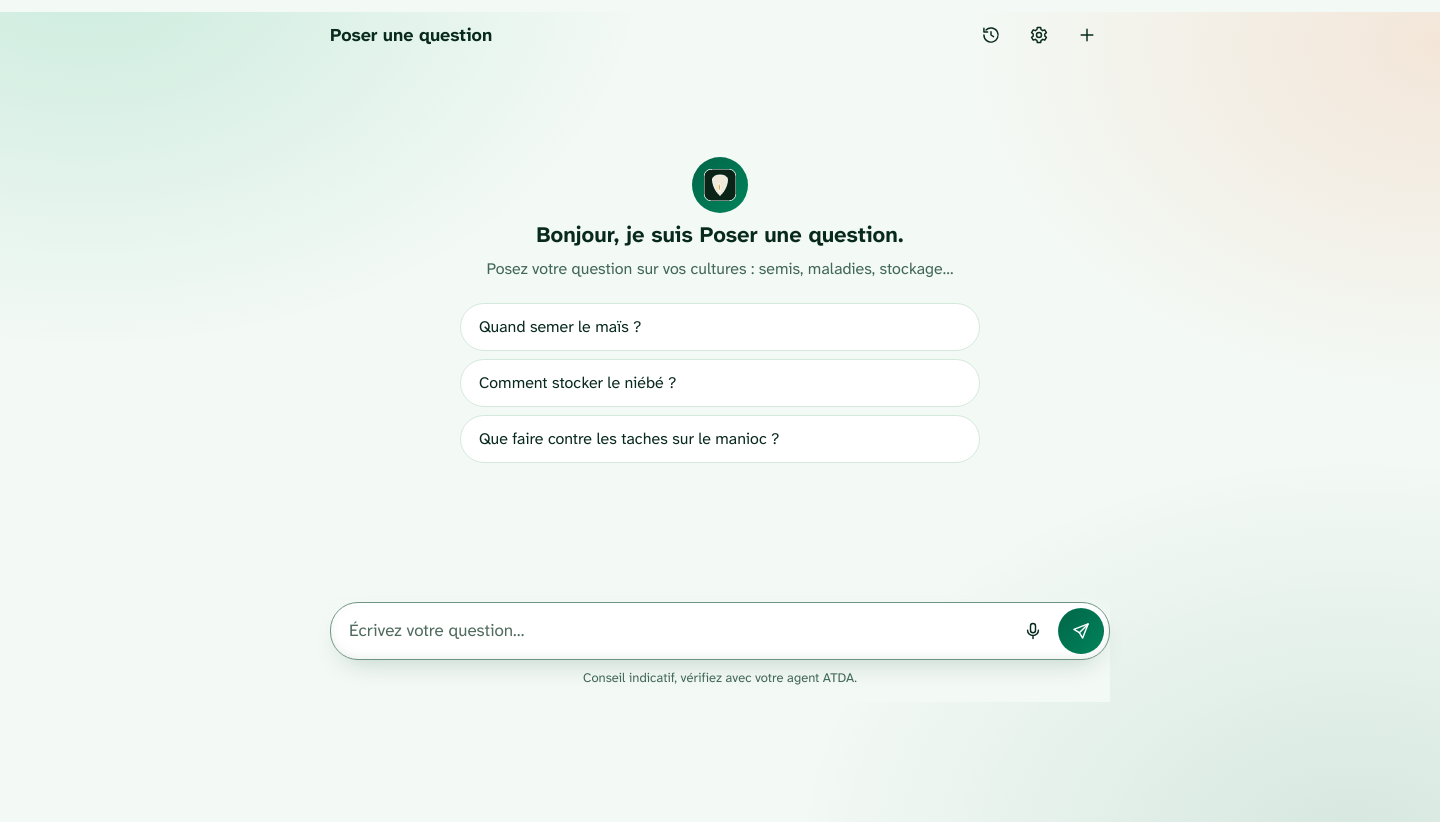
Assistant agricole › affiche la réponse en Markdown et range les sources dans un menu fermé
Type "Comment stocker le niébé ?" into the text box with placeholder "Écrivez votre question…".
click(678, 631); type("Comment stocker le niébé ?")  # box left=349, top=608, right=1008, bottom=654
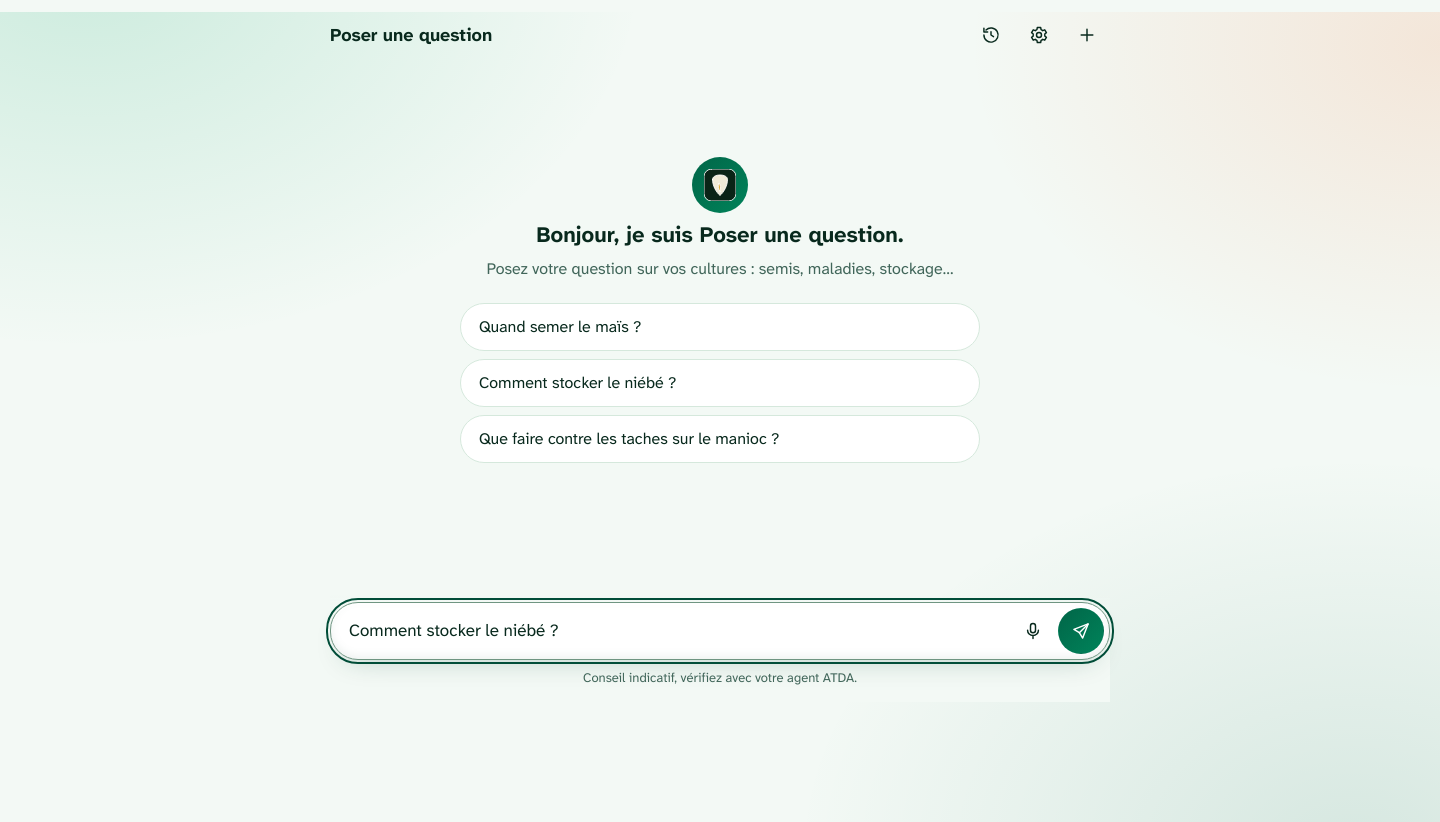
Click the button named "Envoyer".
click(1081, 631)  # box left=1058, top=608, right=1104, bottom=654
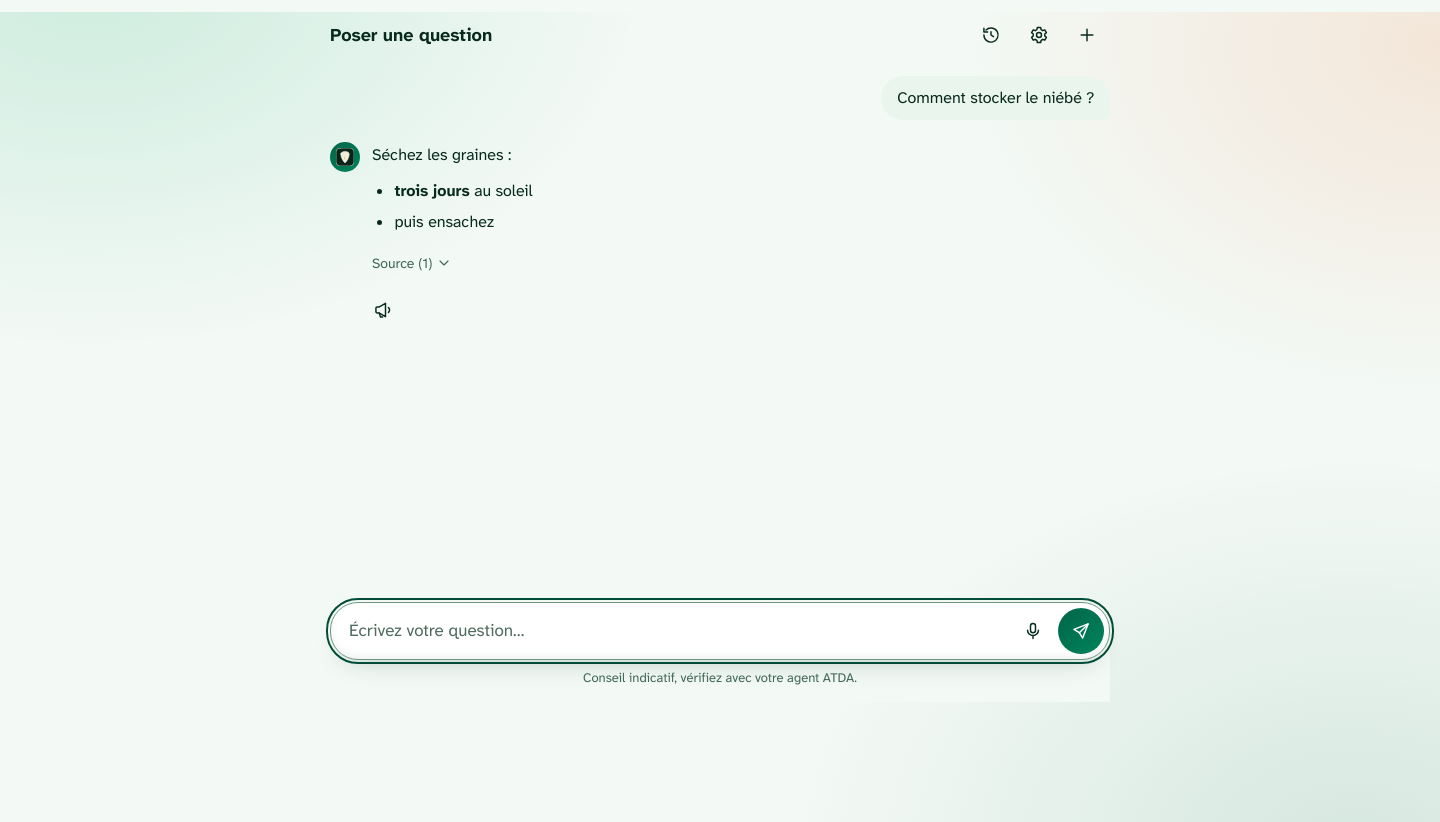
Now the number of list items is 2, box left=394, top=180, right=533, bottom=201; left=394, top=211, right=494, bottom=232
Click the heading "Source (1)".
click(412, 263)  # box left=372, top=254, right=452, bottom=272
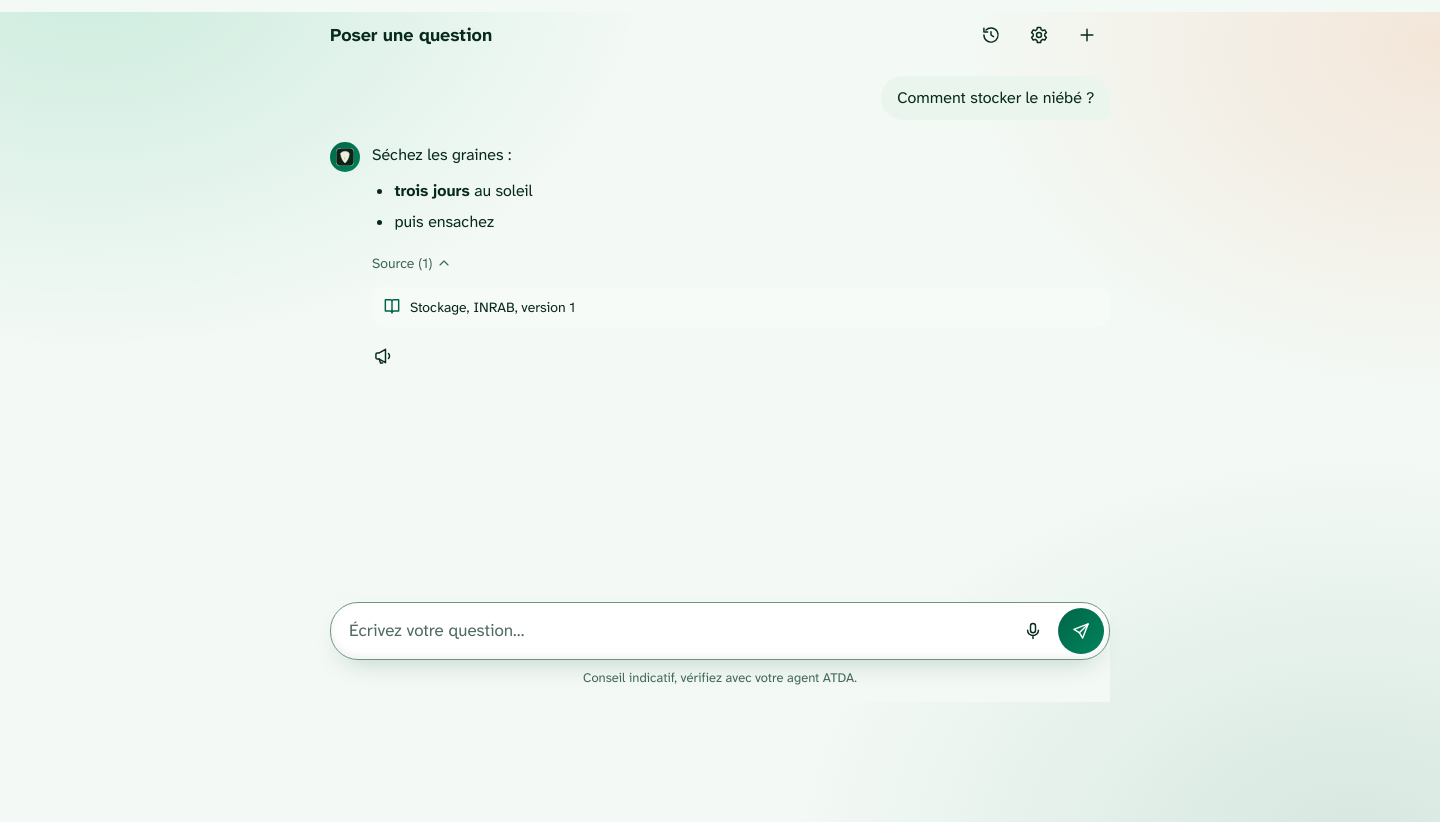
Now the text "Stockage, INRAB, version 1" is shown, box left=410, top=295, right=575, bottom=319
